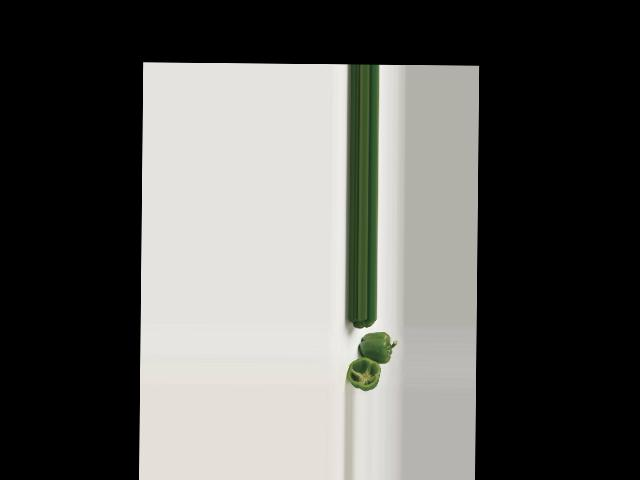bell_pepper: (344, 355, 384, 392)
